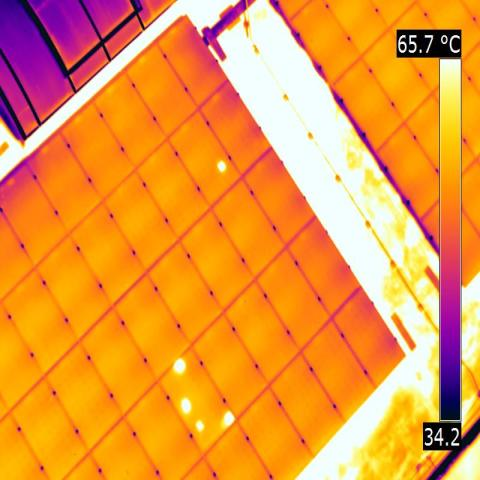fault: (221, 410, 236, 429), (173, 358, 186, 375), (180, 397, 192, 415), (194, 420, 205, 432), (217, 161, 227, 172)
